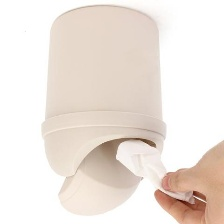plastic_box: (36, 0, 172, 224)
tissue: (110, 135, 202, 209)
